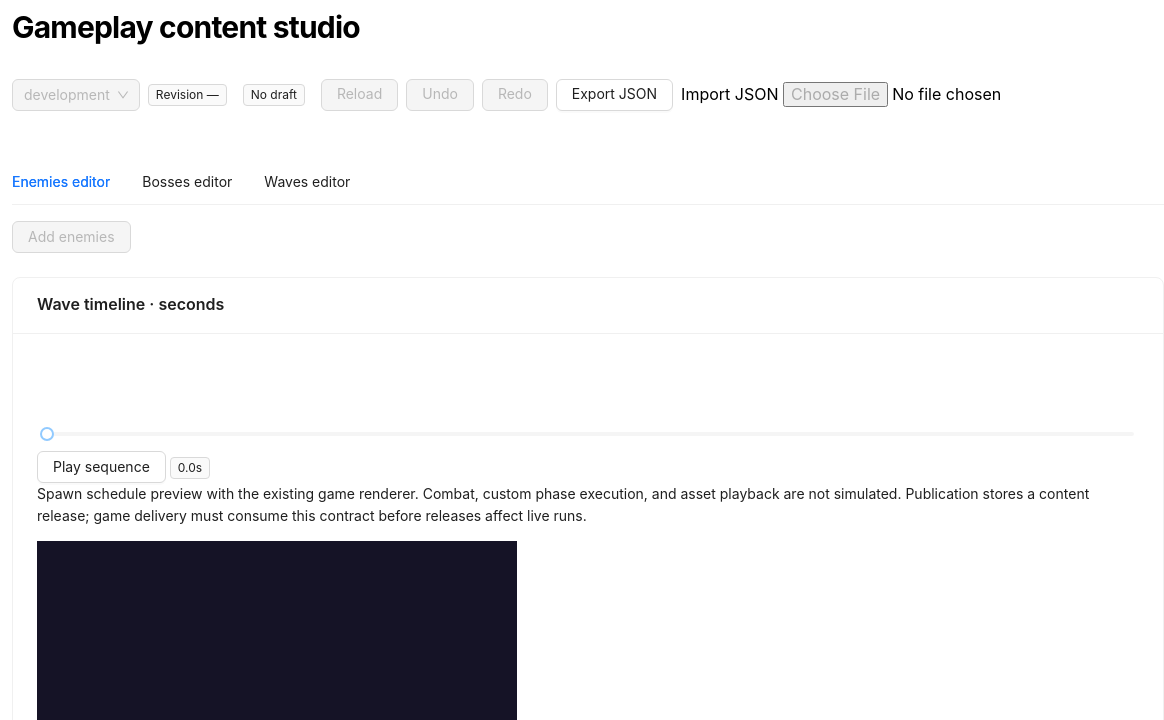
Test: adds an enemy, supports undo and redo, and saves through the content lifecycle
This screenshot has width=1164, height=720.
Later steps or results of the test are not shown.
Check: the text "Add enemies" is enabled, box top-left (28, 226), bottom-right (114, 248)
Click the button "Add enemies". click: [71, 236]
box: top-left (12, 220), bottom-right (130, 252)
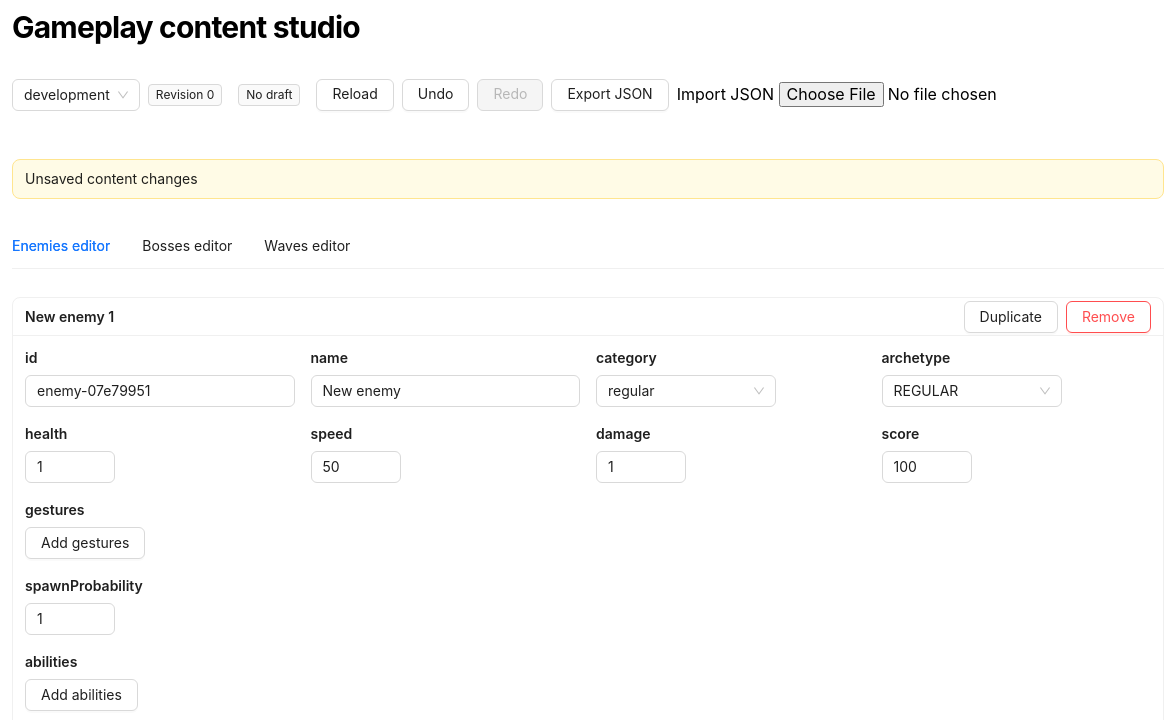
Replace the text in the field named "enemies.0.name" with "Specter". click: [445, 391]
box: top-left (310, 375), bottom-right (580, 407)
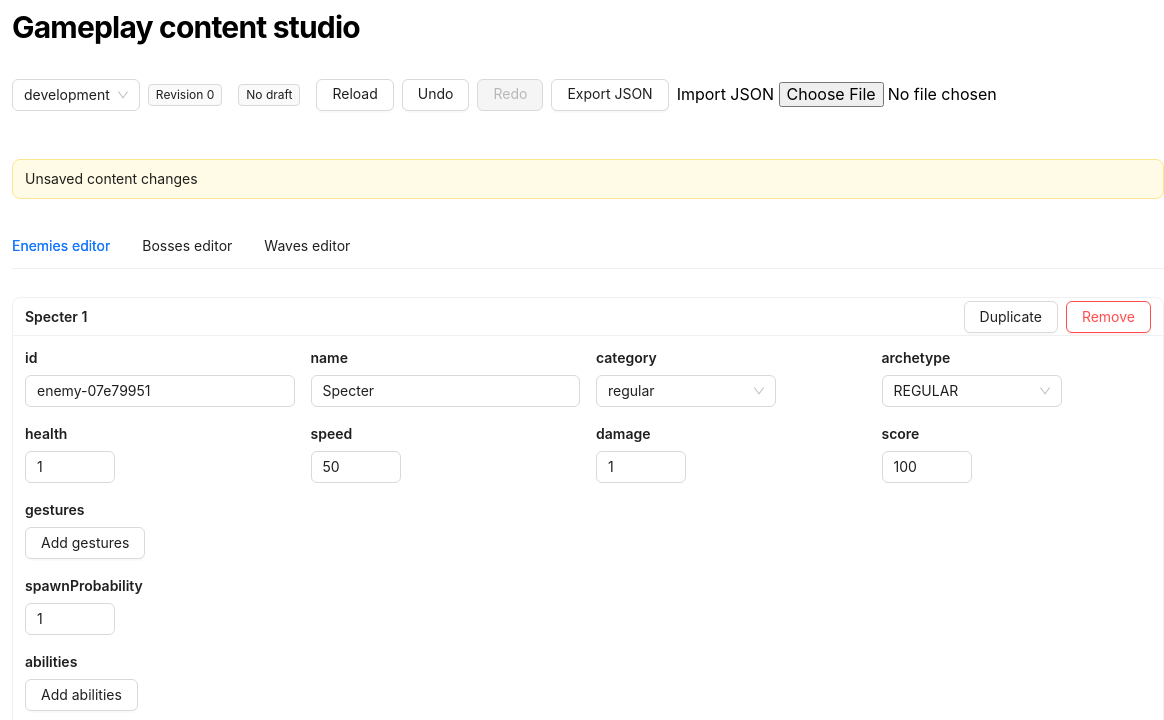
Click the button "Undo". click: [436, 94]
box: top-left (402, 78), bottom-right (470, 110)
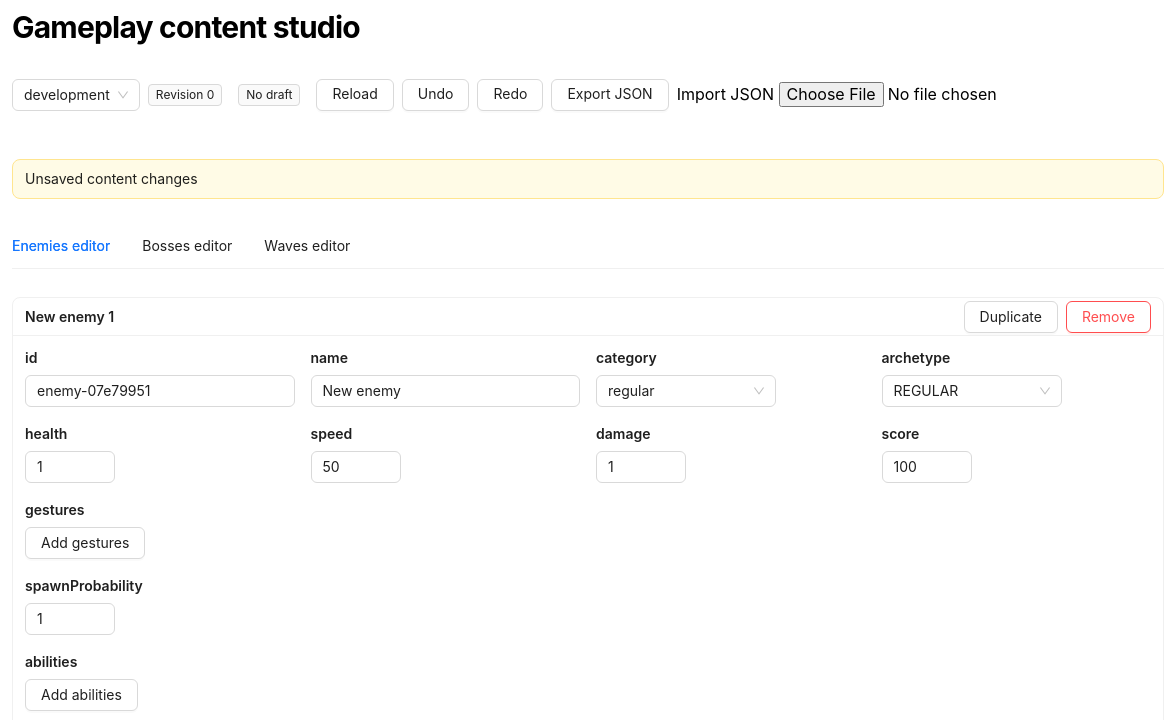
Check: the field named "enemies.0.name" holds "New enemy", box top-left (310, 375), bottom-right (580, 407)
